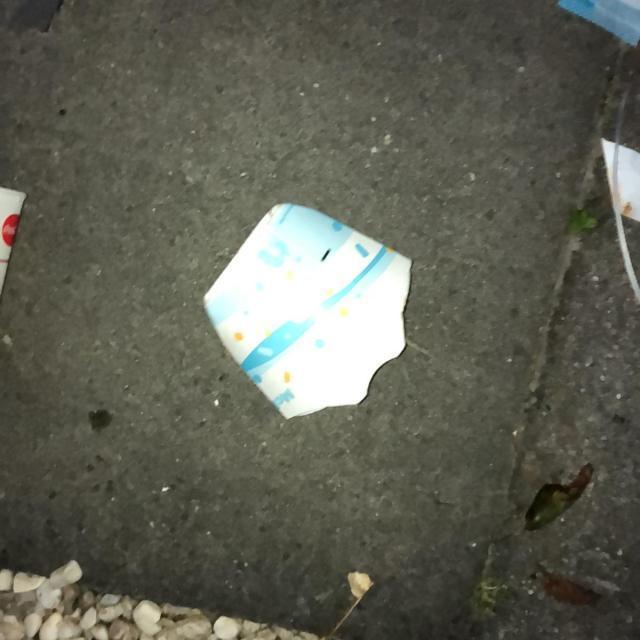Cup: (0, 182, 30, 298)
Paper: (198, 201, 416, 422)
